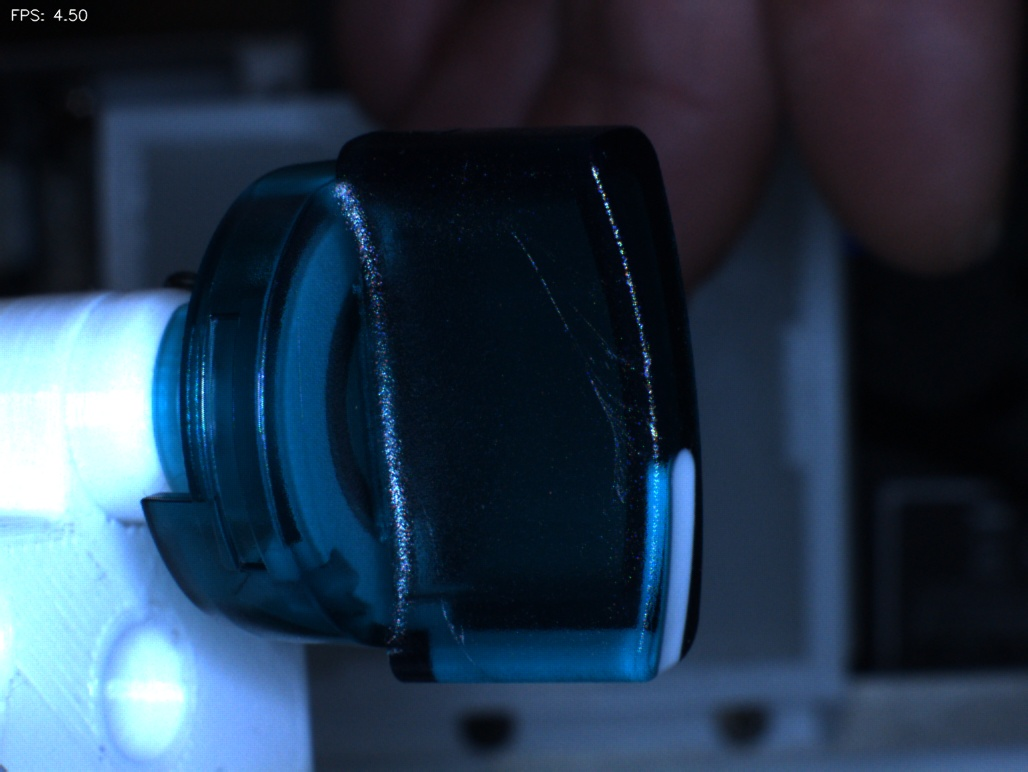Givrage: (509, 229, 644, 505)
